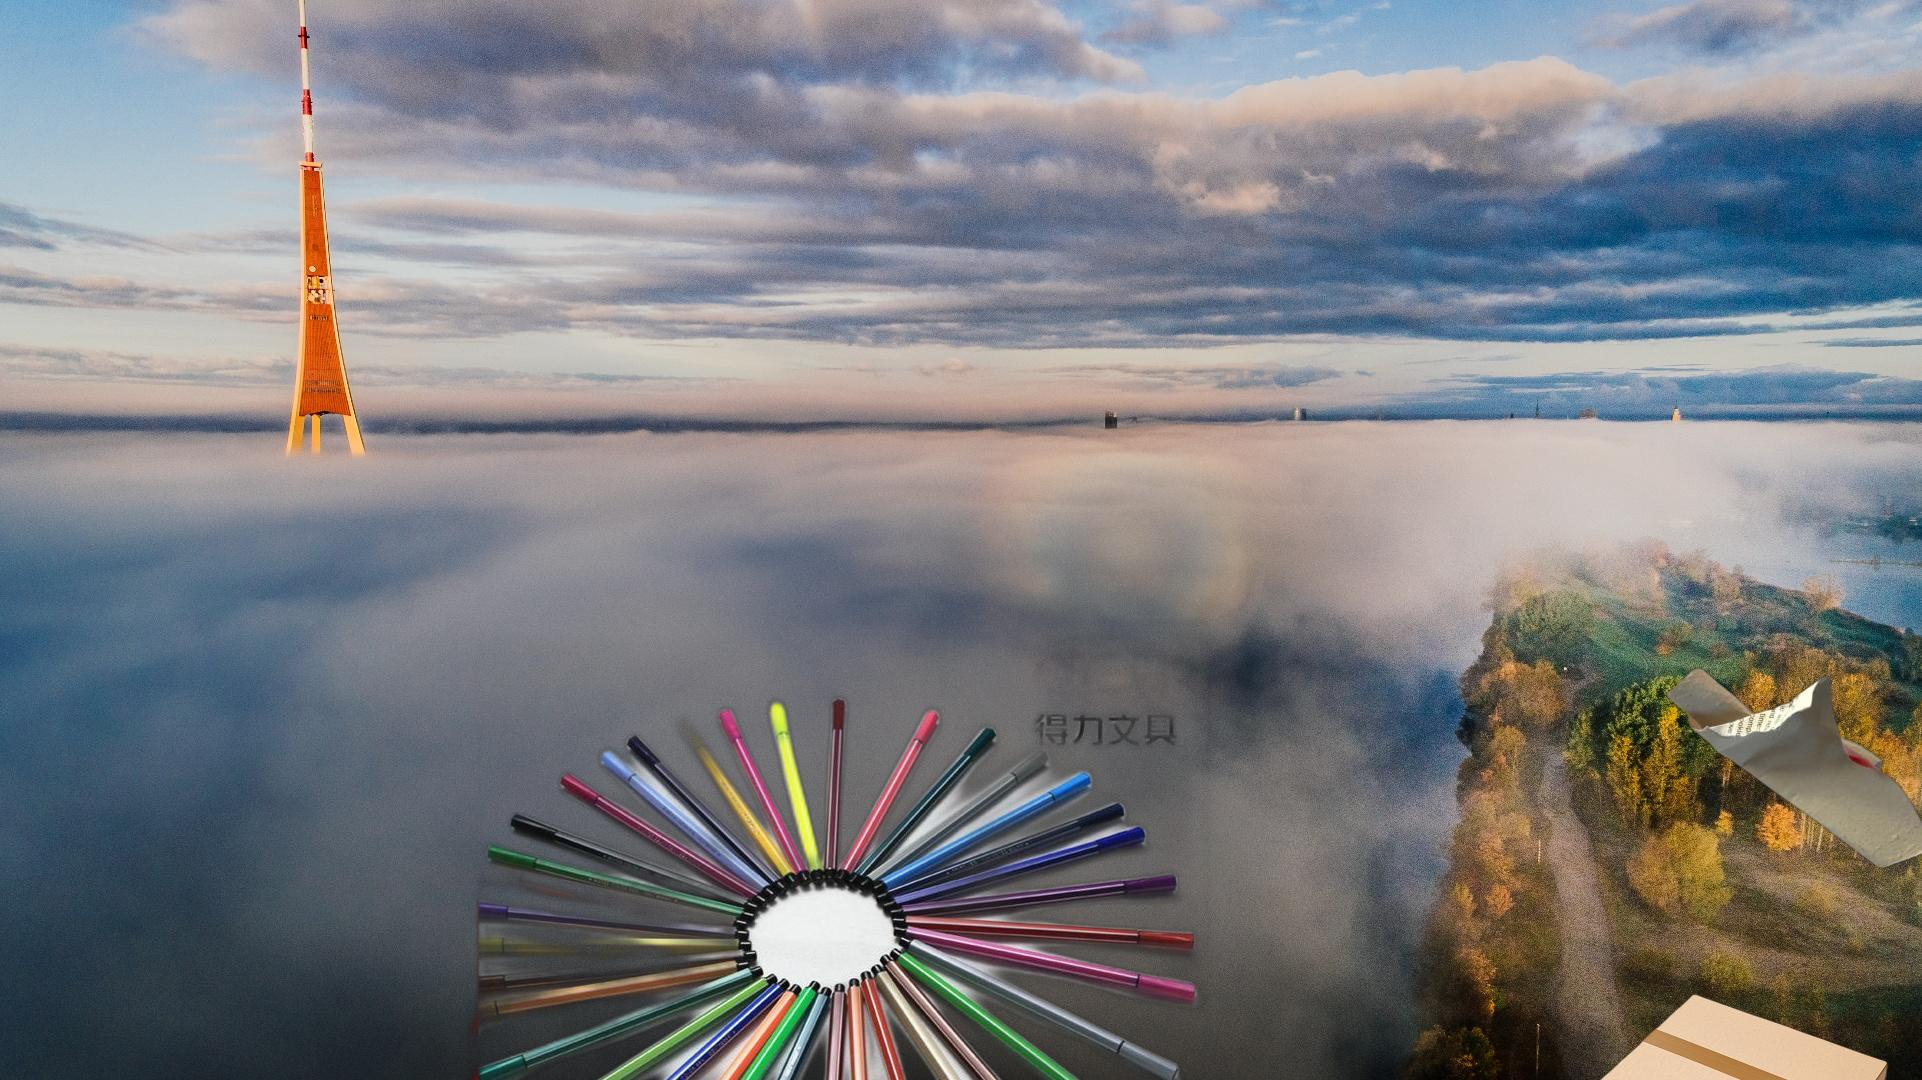paper: (1663, 665, 1922, 871)
penholder: (444, 595, 1243, 1080)
trashbox-cardboard: (1592, 992, 1893, 1080)
